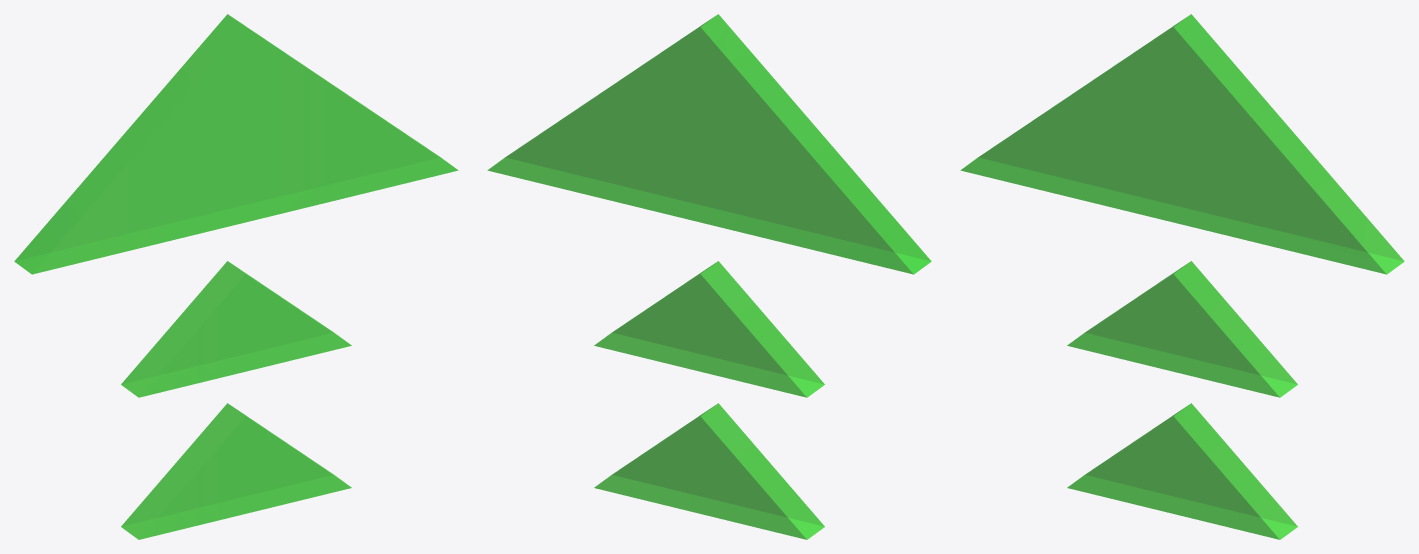
File: SignUp.fbx
The picture shows the model from 3 angles, left to right: view 1: azimuth 30°, elevation 25°; view 2: azimuth 150°, elevation 25°; view 3: azimuth 330°, elevation 25°; orthographic projection.
Parts seen in each view (by area): view 1: Cylinder.001; view 2: Cylinder.001; view 3: Cylinder.001.
Part boxes in pixels (box(x1,y1,x2,y2)): Cylinder.001: box(14, 14, 458, 539); Cylinder.001: box(487, 14, 931, 539); Cylinder.001: box(960, 14, 1404, 539).
Bounding box in the file's own units: 137 × 149 × 10.
